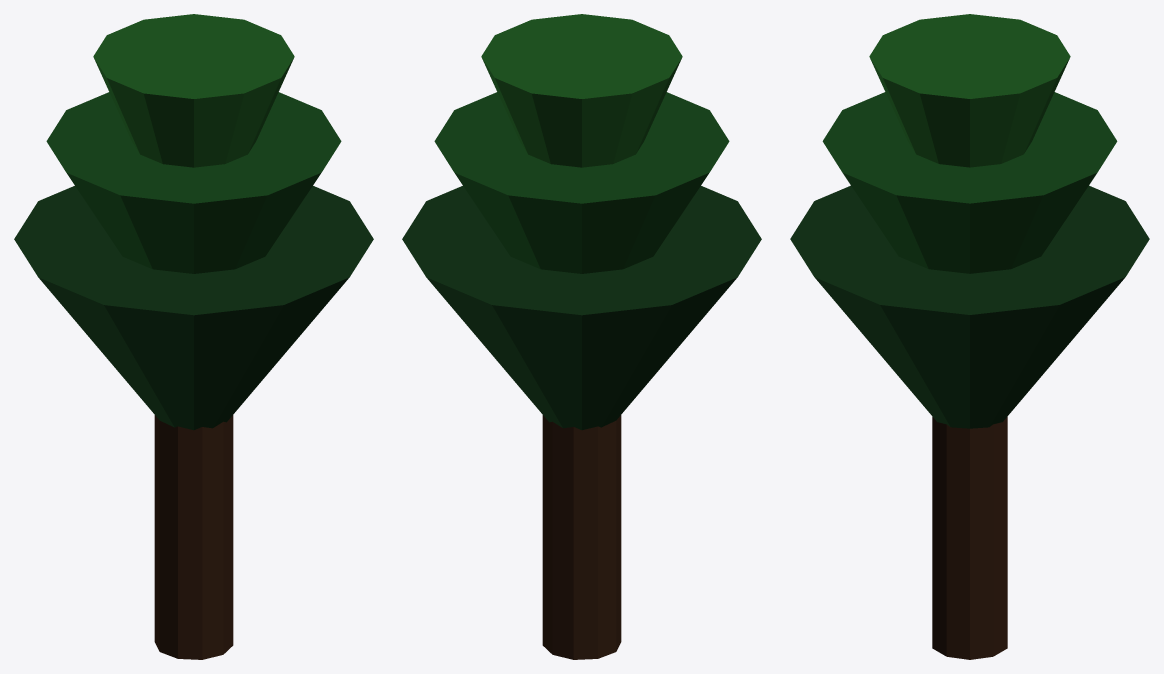
The model's file is Tree_B.obj.
3 renders of one model, left to right at view 1: azimuth 30°, elevation 25°; view 2: azimuth 150°, elevation 25°; view 3: azimuth 270°, elevation 25°, orthographic.
Parts seen in each view (by area): view 1: Pine0, Pine1, Pine2, Trunk; view 2: Pine0, Pine1, Pine2, Trunk; view 3: Pine0, Pine1, Pine2, Trunk.
Part boxes in pixels (x1,y1,x2,y2): Pine0: (14, 186, 373, 430); Pine1: (46, 92, 341, 273); Pine2: (93, 14, 294, 167); Trunk: (154, 415, 233, 659); Pine0: (402, 186, 761, 430); Pine1: (434, 92, 729, 273); Pine2: (481, 14, 682, 167); Trunk: (542, 415, 621, 659); Pine0: (790, 185, 1149, 428); Pine1: (822, 92, 1117, 273); Pine2: (869, 14, 1070, 167); Trunk: (932, 417, 1007, 659).
Size of the model in its own units: 2.9 by 5.22 by 2.9.
